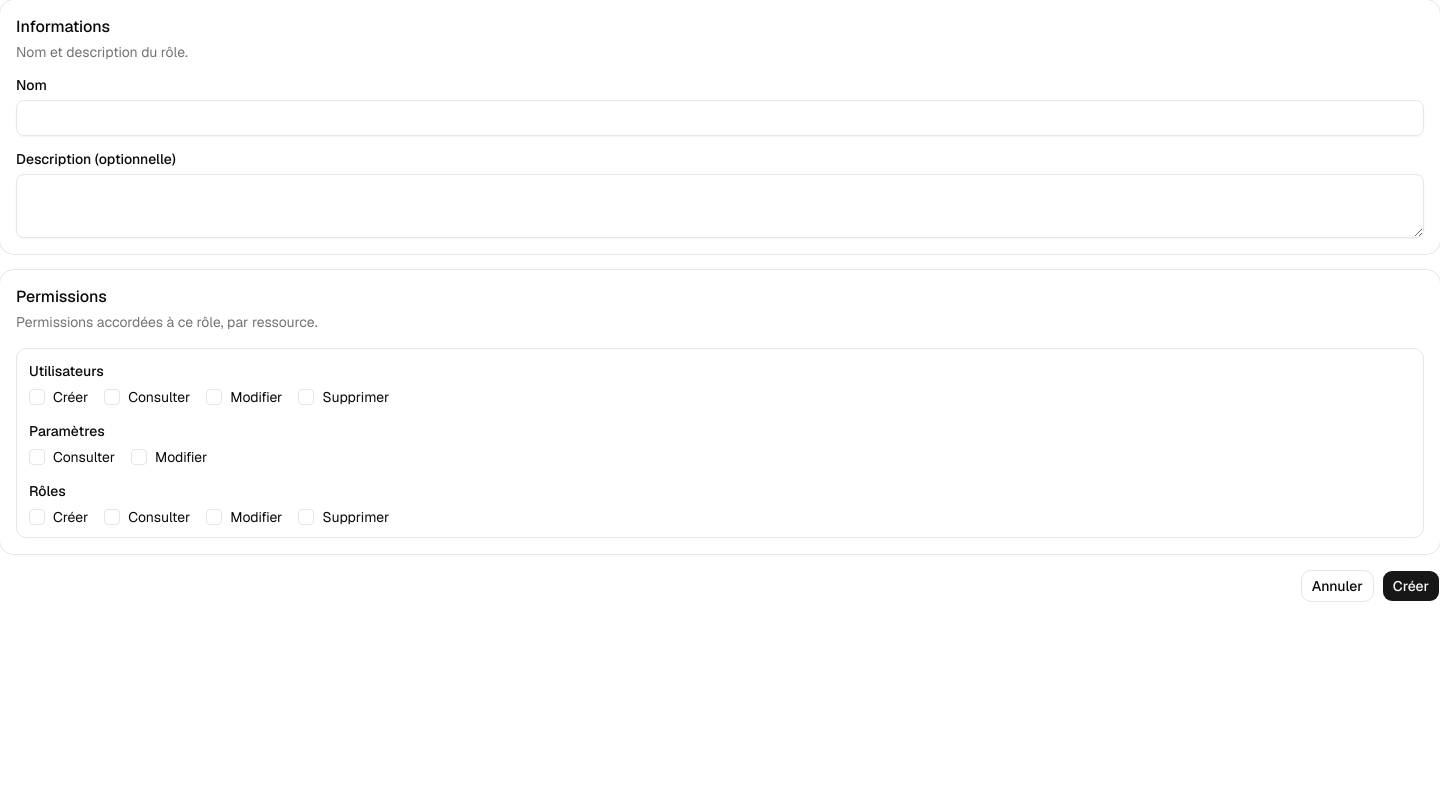
Scenario: RoleCreateForm — soumission › affiche l'erreur retournée par l'action dans une alerte inline, sans naviguer
Type "Comptable" into the field labelled "Nom".
click(720, 118); type("Comptable")  # box [16,100,1424,136]
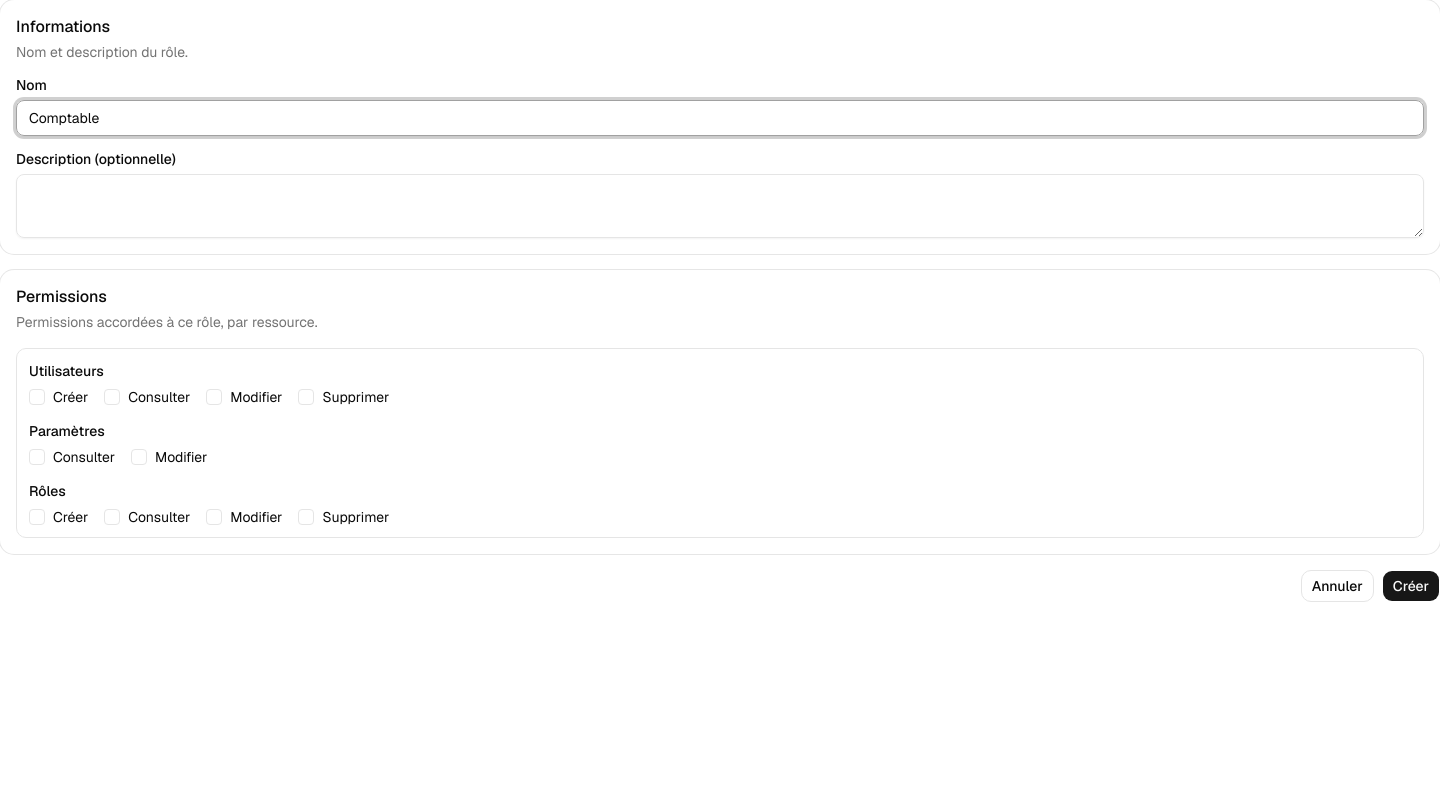
Click the button "Créer".
click(1411, 586)  # box [1382,570,1440,602]
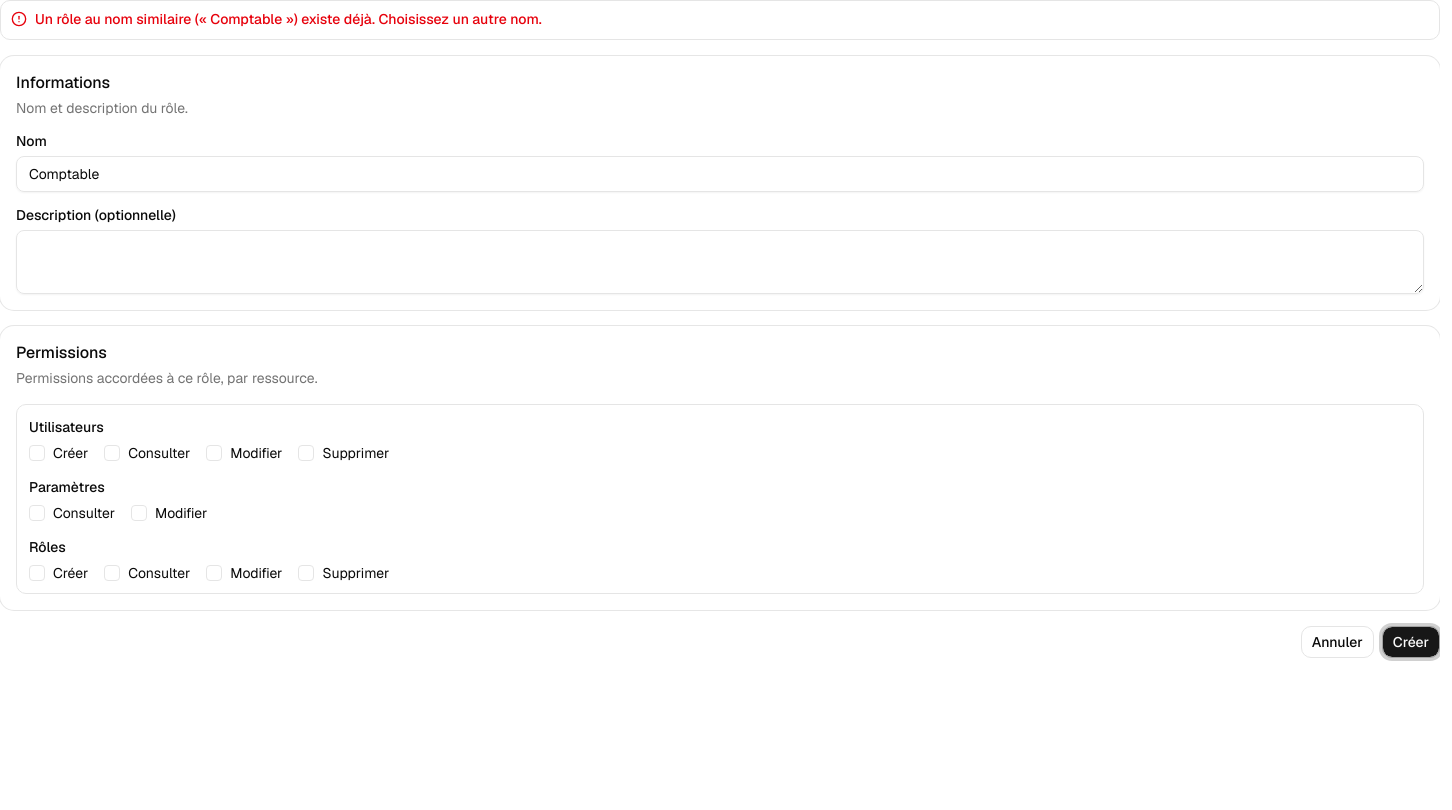
Result: the message reads "Un rôle au nom similaire (« Comptable ») existe déjà. Choisissez un autre nom." at [35,10,542,28]
